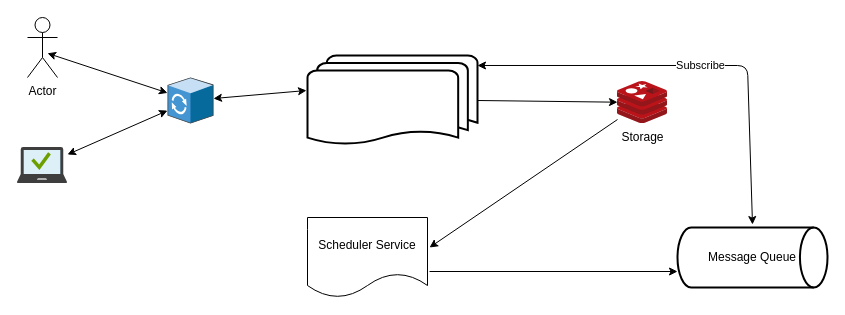
Image size: 845x315. Some labels were removed from this diagram. The centre of each missing label's shape, as x and y in pixels:
"Haproxy" belongs at [190,100].
"Websocket services" belongs at [392,100].
